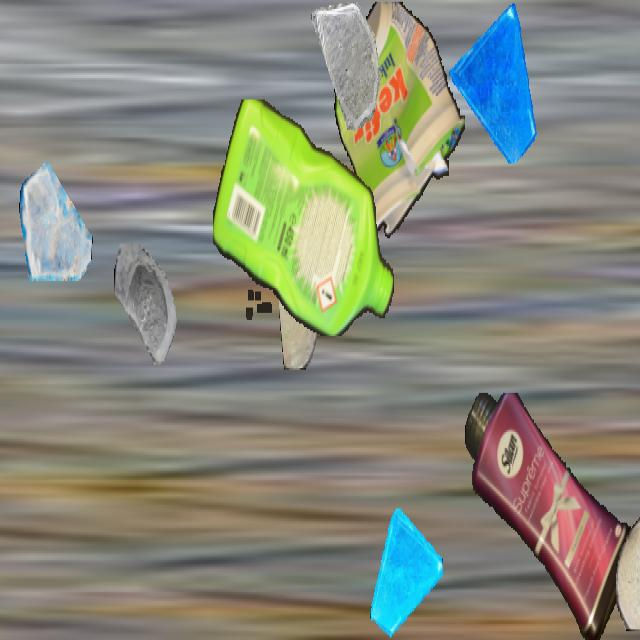glass: (449, 2, 539, 162), (113, 244, 189, 378), (19, 156, 93, 288), (368, 507, 442, 638), (311, 2, 383, 130)
plastic: (213, 100, 395, 334), (464, 393, 636, 638), (333, 2, 465, 247)
wood: (279, 238, 317, 370), (616, 510, 640, 631)
